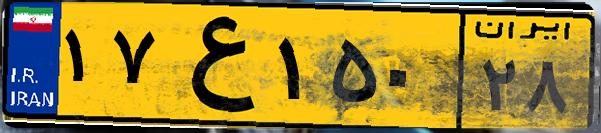0: (385, 28, 445, 110)
1: (270, 28, 330, 110), (57, 26, 110, 100)
2: (475, 38, 525, 113)
5: (330, 28, 385, 110)
7: (110, 28, 158, 98)
8: (525, 38, 570, 115)
ع: (158, 12, 270, 120)
